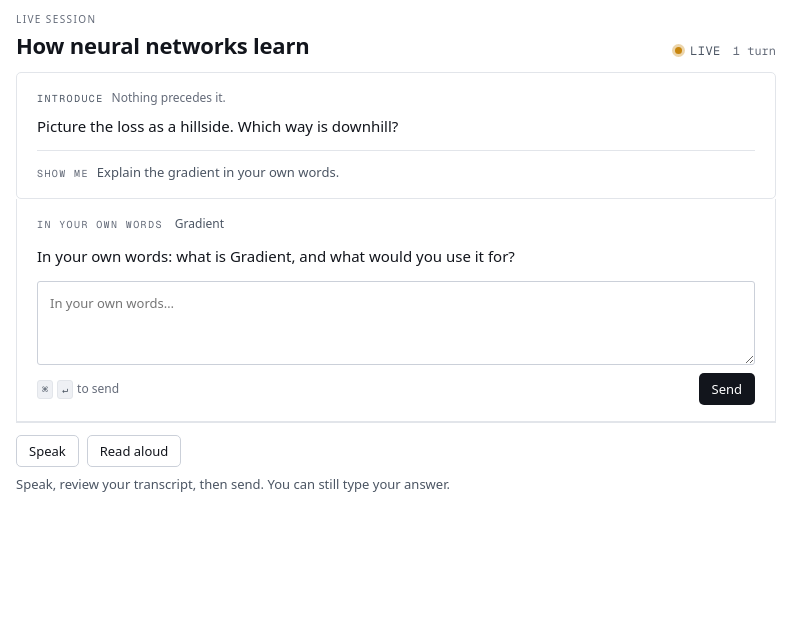
SessionView — the plainest surface a session can have › keeps the learner informed while their answer is being marked
The image size is (793, 627).
Step 1. Type "It points downhill." into the text box named "your answer" → (396, 323), box [37,281,755,365]
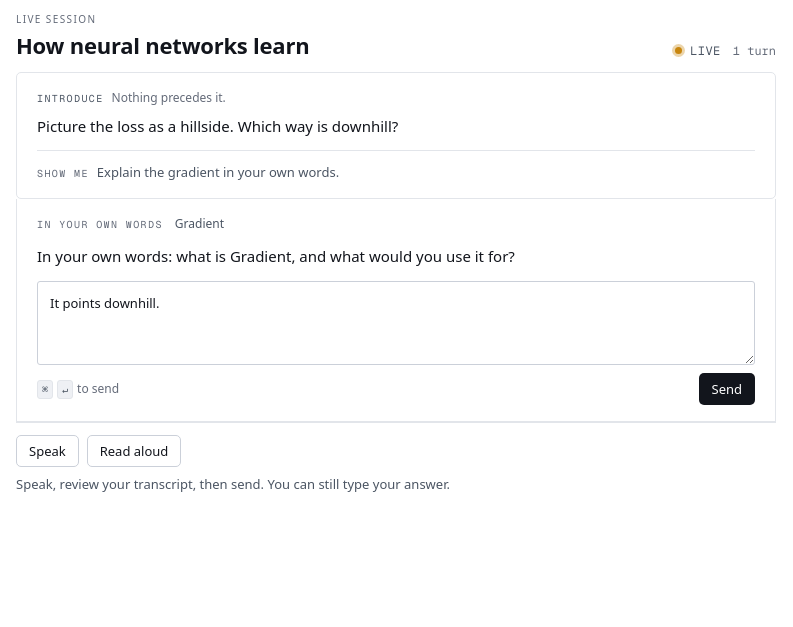
Step 2. Click the button "Send" → click(727, 389), box [698,373,755,405]
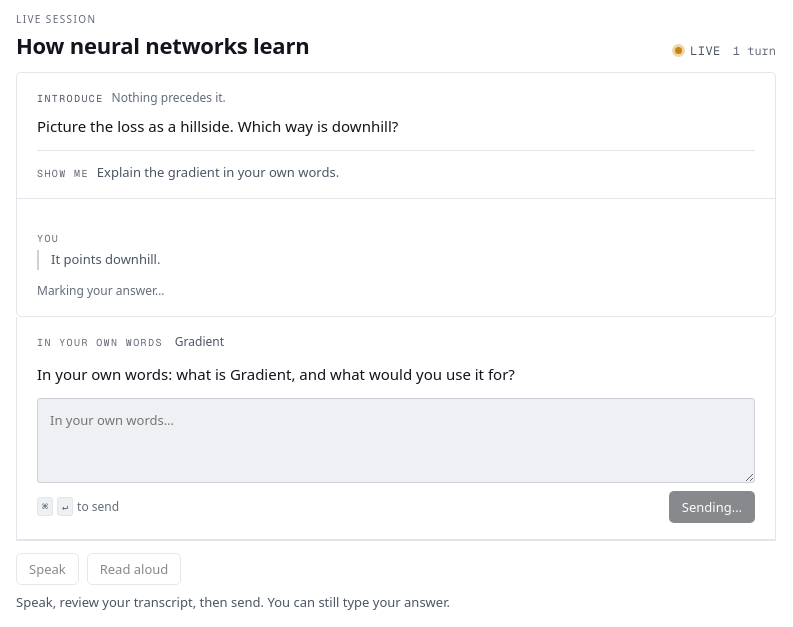
expect the text "Marking your answer…" is shown: met, box [37,282,164,299]
expect the text "It points downhill." is shown: met, box [37,250,755,270]
expect the text box named "your answer" is disabled: met, box [37,398,755,483]
